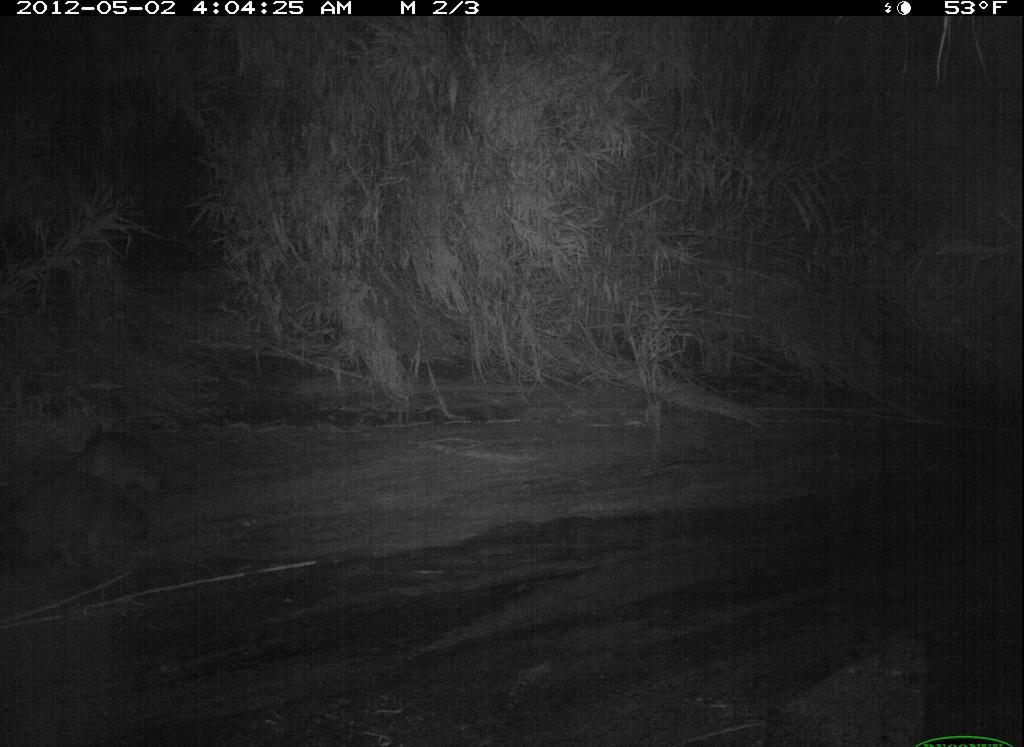raccoon: (11, 477, 173, 584), (54, 427, 177, 507)
